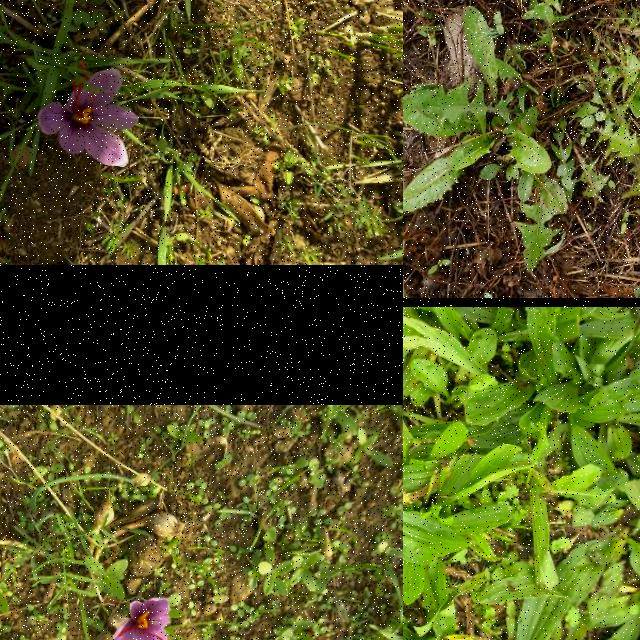flower: (37, 62, 139, 168), (114, 598, 172, 640)
